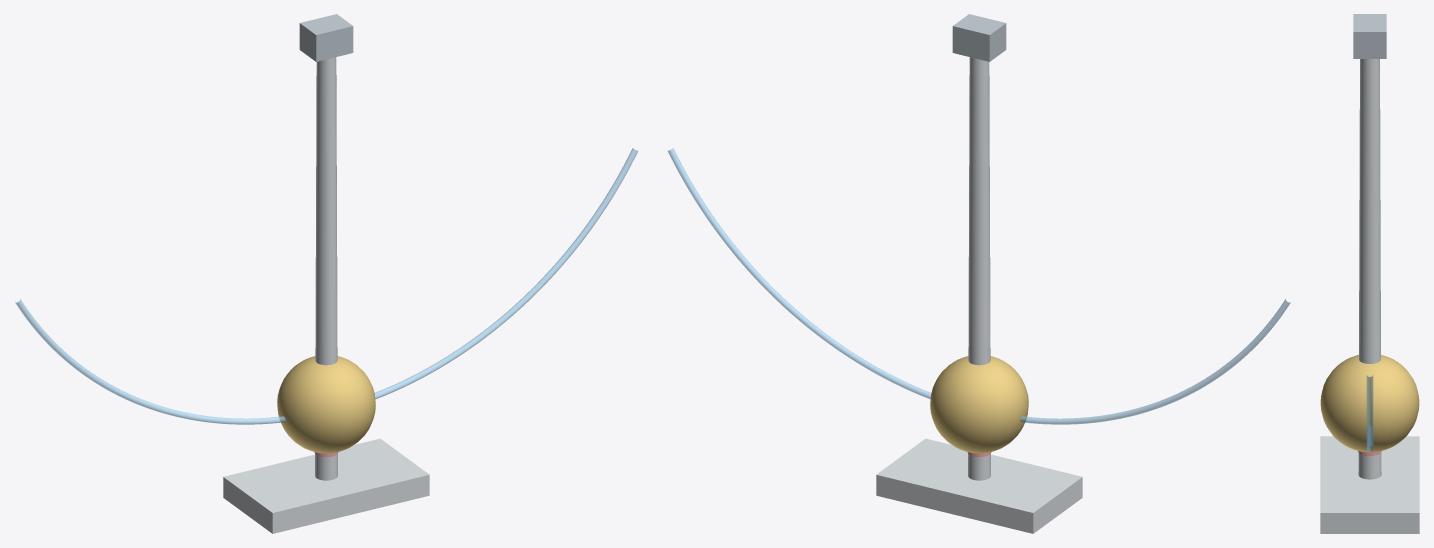
Rendered from pendulum.glb.
3 renders of one model, left to right at view 1: azimuth 30°, elevation 25°; view 2: azimuth 150°, elevation 25°; view 3: azimuth 270°, elevation 25°, orthographic.
Parts seen in each view (by area): view 1: pendulum_stand_base, pendulum_bob, pendulum_pole, swing_arc, pendulum_pivot; view 2: pendulum_stand_base, pendulum_bob, pendulum_pole, swing_arc, pendulum_pivot; view 3: pendulum_stand_base, pendulum_bob, pendulum_pole, pendulum_pivot, swing_arc.
Boxes of the visible parts, left/top/right/bottom form: pendulum_stand_base: left=223, top=438, right=429, bottom=533; pendulum_bob: left=277, top=356, right=375, bottom=453; pendulum_pole: left=315, top=57, right=337, bottom=480; swing_arc: left=15, top=148, right=637, bottom=424; pendulum_pivot: left=299, top=14, right=353, bottom=61; pendulum_stand_base: left=876, top=438, right=1082, bottom=533; pendulum_bob: left=930, top=356, right=1028, bottom=453; pendulum_pole: left=968, top=57, right=990, bottom=480; swing_arc: left=668, top=148, right=1290, bottom=424; pendulum_pivot: left=952, top=14, right=1006, bottom=61; pendulum_stand_base: left=1320, top=436, right=1419, bottom=533; pendulum_bob: left=1320, top=354, right=1419, bottom=452; pendulum_pole: left=1358, top=59, right=1381, bottom=479; pendulum_pivot: left=1353, top=14, right=1386, bottom=58; swing_arc: left=1366, top=375, right=1373, bottom=451.
Size of the model in its own units: 1.61 by 1.17 by 0.2213.
